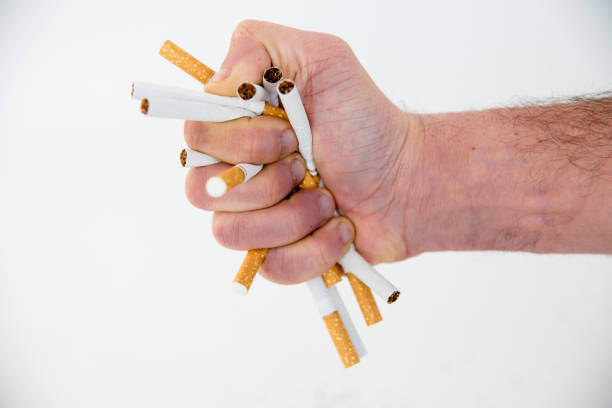cigarette: (129, 81, 293, 119), (306, 275, 361, 371), (278, 79, 320, 186), (336, 242, 402, 306), (127, 40, 217, 85), (129, 97, 258, 119), (203, 160, 265, 199), (344, 267, 383, 328), (231, 245, 270, 296), (177, 148, 220, 168), (236, 83, 266, 104), (264, 66, 279, 107), (320, 264, 341, 289), (300, 171, 316, 189)
